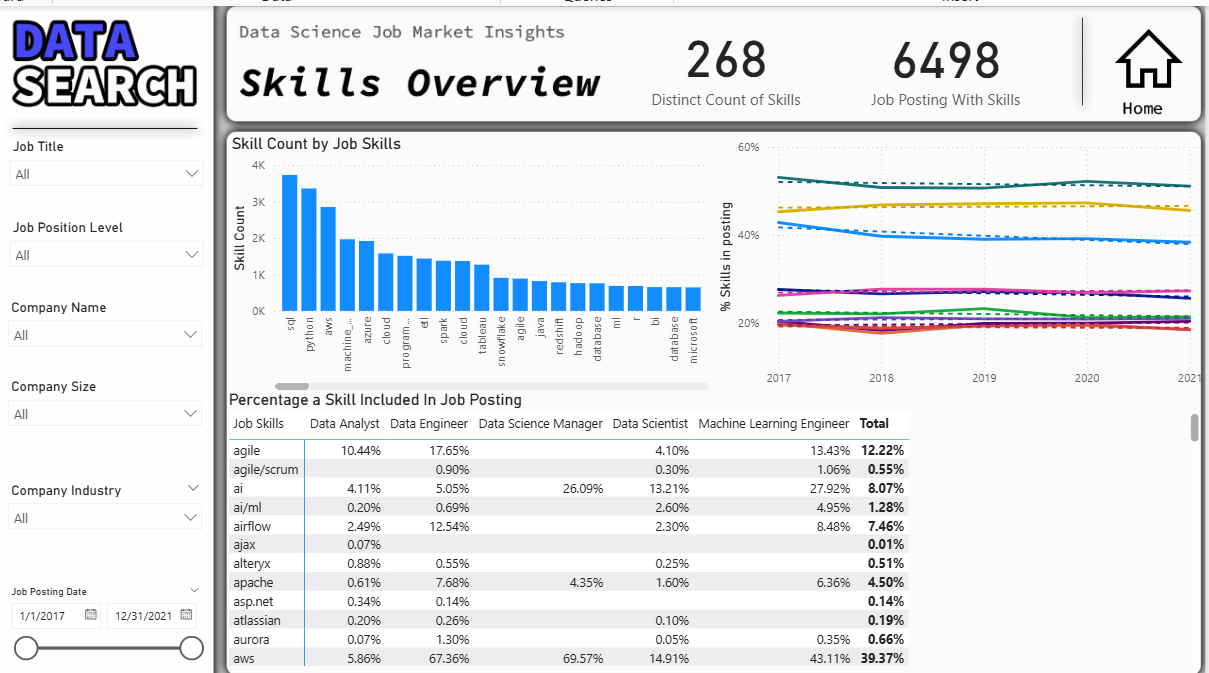

Layout of this report page (visuals, bound fields, positions):
{"tool":"powerbi","page":{"name":"Skill Likelihood","canvas":[1280,720],"ordinal":8},"visuals":[{"type":"pivotTable","fields":{"Rows":["Job Skills.Job Skills"],"Columns":["Job Postings.Job Title"],"Values":["__Measures.% Skills in posting"]},"box":[744.8,0,536,720.6],"z":0},{"type":"lineChart","fields":{"Y":["__Measures.% Skills in posting"],"Category":["Job Postings.Job Posting Date.Variation.Date Hierarchy.Year","Job Postings.Job Posting Date.Variation.Date Hierarchy.Quarter","Job Postings.Job Posting Date.Variation.Date Hierarchy.Month","Job Postings.Job Posting Date.Variation.Date Hierarchy.Day"],"Series":["Job Skills.Job Skills"]},"box":[0,0,744.8,513.3],"z":1000},{"type":"slicer","fields":{"Values":["Job Postings.Job Title"]},"box":[0,534.3,348.1,186.2],"z":2000},{"type":"slicer","fields":{"Values":["Job Skills.Job Skills"]},"box":[348.1,534.3,377.3,186.2],"z":3000}]}

Visuals, with their boxes on the page's 1280x720 design canvas (x1, y1, x2, y2). These are canvas units, not pixel positions in the 1209x673 screenshot, which may show the page scaled, cropped or inside an application window:
pivotTable - Job Skills.Job Skills x Job Postings.Job Title: [745,0,1281,721]
lineChart - __Measures.% Skills in posting x Job Postings.Job Posting Date.Variation.Date Hierarchy.Year: [0,0,745,513]
slicer - Job Postings.Job Title: [0,534,348,720]
slicer - Job Skills.Job Skills: [348,534,725,720]
